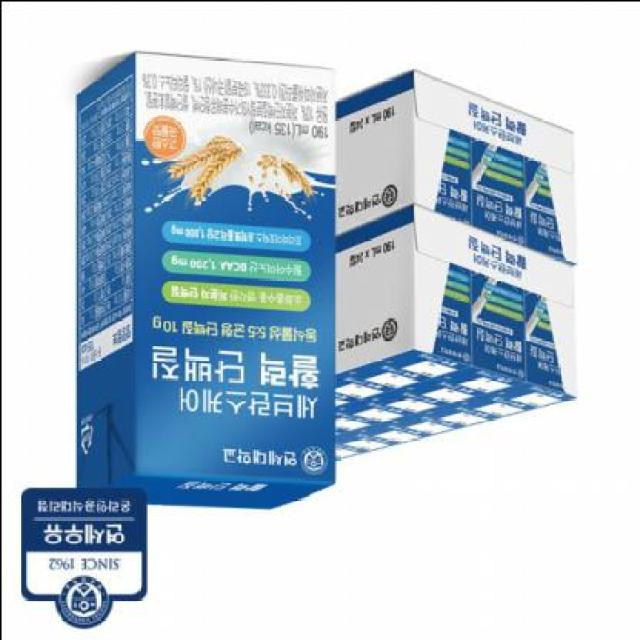tetra: (56, 37, 344, 523)
